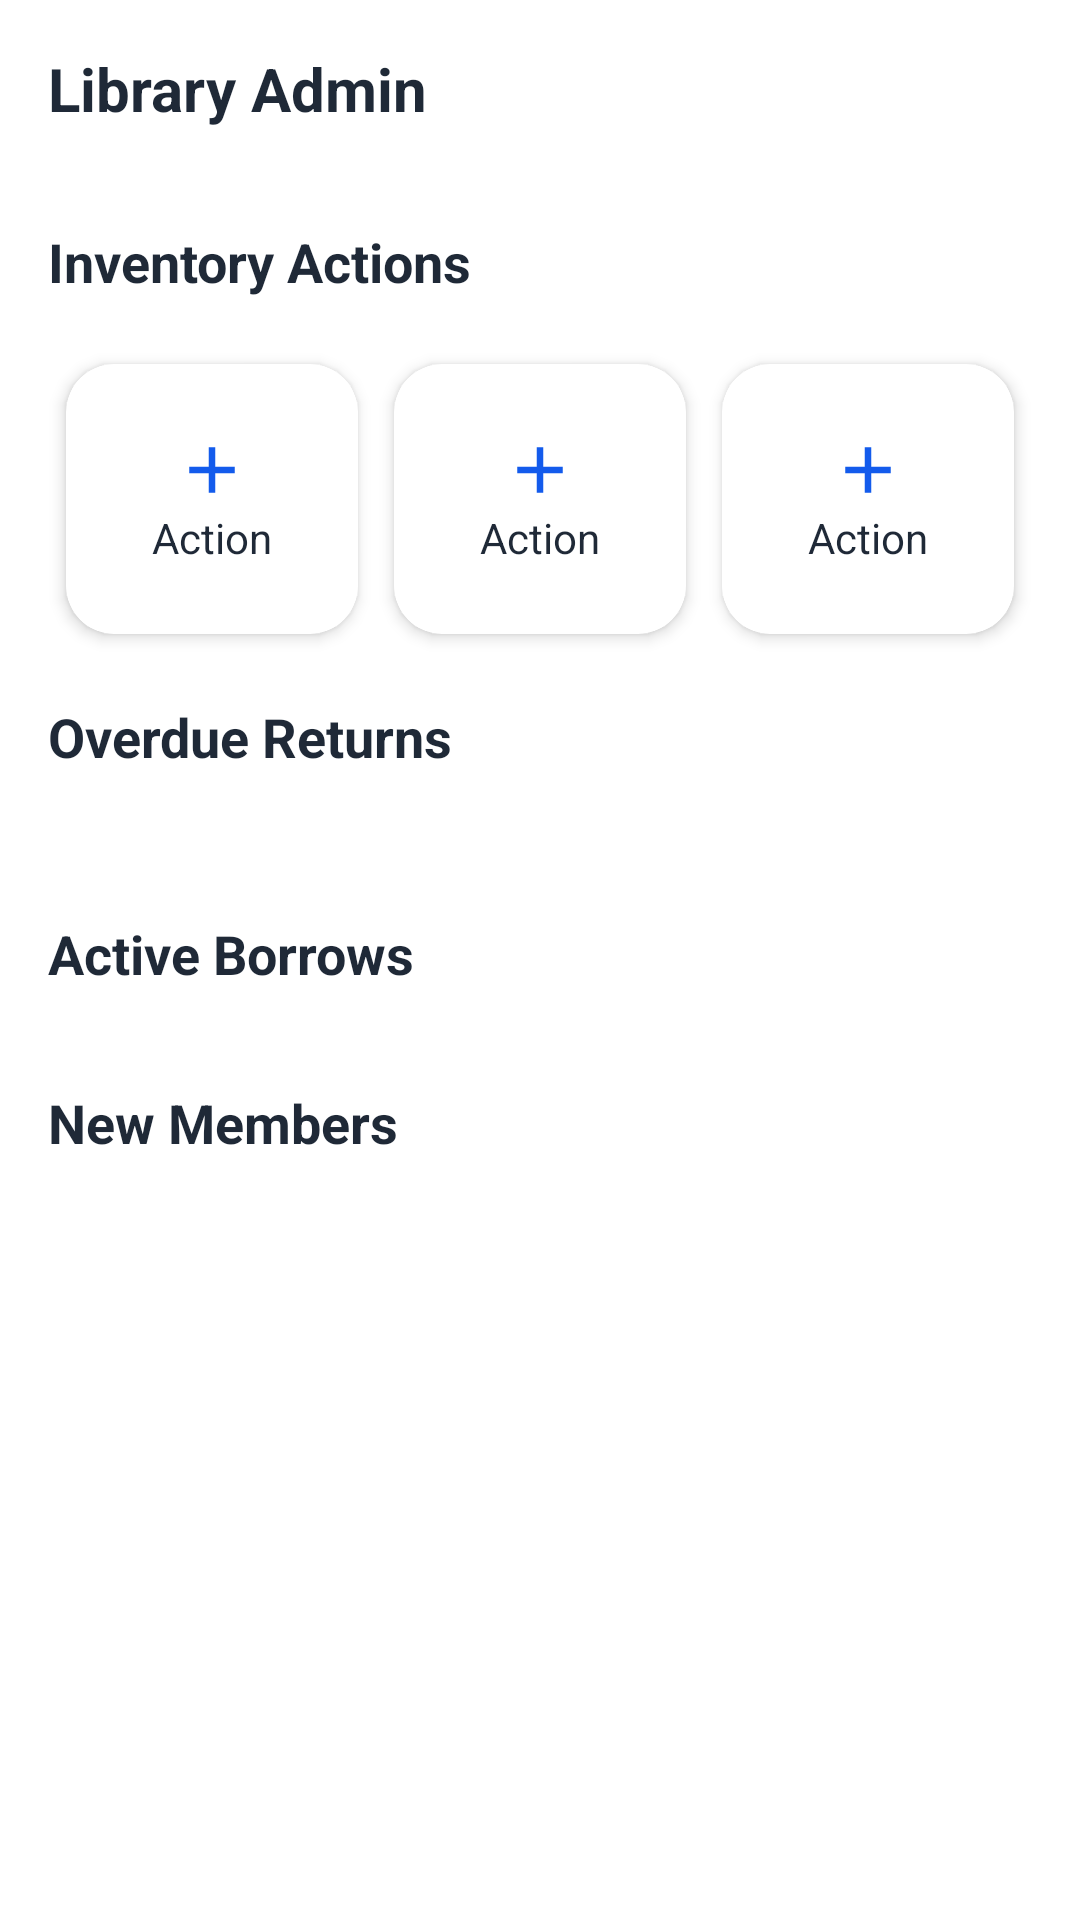

Icon bounding boxes for this 1080 x 1920 phone screenshot, format BBox(x1, y1, x2, y2):
add: BBox(189, 447, 235, 493), BBox(517, 447, 563, 493), BBox(845, 447, 891, 493)
